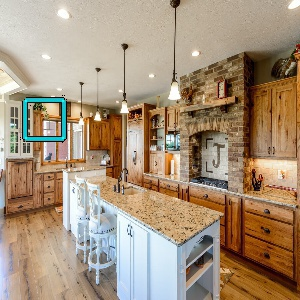square: (19, 95, 68, 144)
